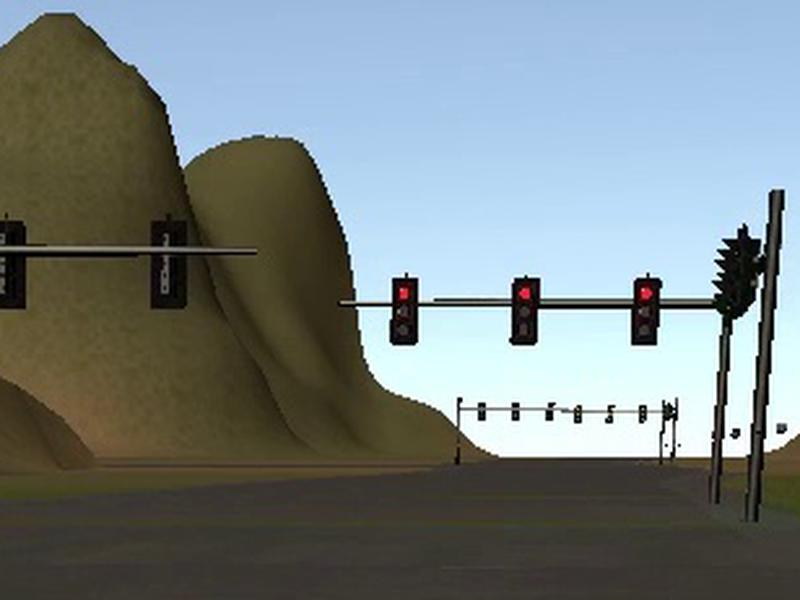Red: (630, 278, 661, 346), (509, 277, 538, 345), (390, 278, 418, 346)
